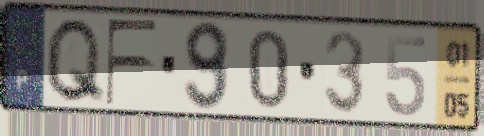0: (244, 27, 293, 112)
3: (322, 27, 366, 118)
5: (383, 32, 428, 119)
9: (180, 18, 231, 115)
F: (103, 17, 161, 109)
Q: (42, 14, 108, 107)
